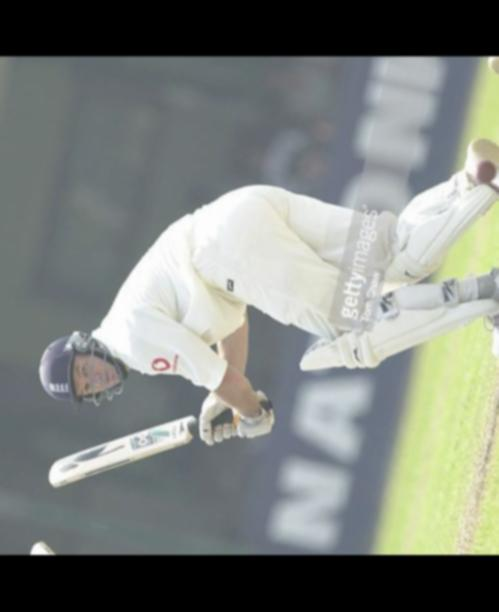batsman: (0, 98, 499, 492)
